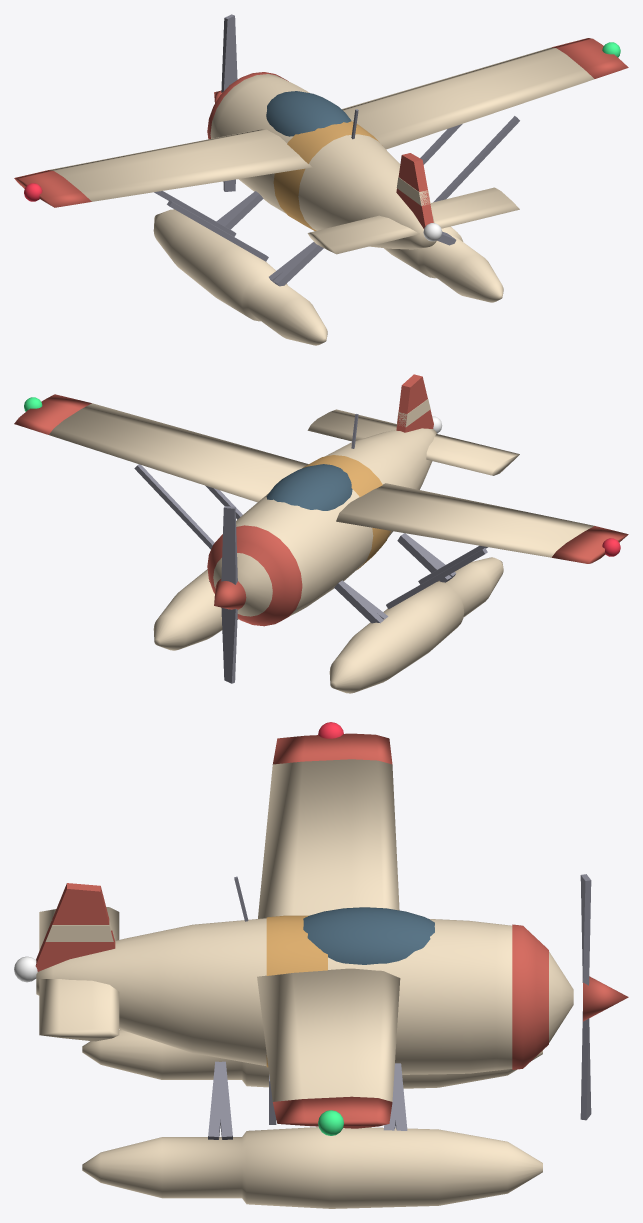
The model's file is seaplane.glb.
The picture shows the model from 3 angles, top to bottom: view 1: azimuth 30°, elevation 25°; view 2: azimuth 150°, elevation 25°; view 3: azimuth 270°, elevation 25°; orthographic projection. The views are drawn at different scales.
Visible parts, largest first — view 1: Fuselage, Wing Starboard, Wing Port, Float Port, Tailplane, Float Starboard, Canopy, Livery Band, Wingtip Starboard, Wingtip Port, Fin, Propeller (+5 smaller); view 2: Fuselage, Wing Starboard, Wing Port, Float Port, Cowl Band, Tailplane, Float Starboard, Canopy, Propeller, Livery Band, Wingtip Starboard, Wingtip Port (+6 smaller); view 3: Fuselage, Float Starboard, Wing Port, Wing Starboard, Float Port, Canopy, Tailplane, Cowl Band, Fin, Wingtip Port, Wingtip Starboard, Livery Band (+6 smaller).
Boxes of the visible parts, x1,y1,x2,y2 form: Fuselage: (210, 74, 436, 249); Wing Starboard: (342, 47, 594, 149); Wing Port: (49, 129, 312, 201); Float Port: (153, 209, 327, 345); Tailplane: (307, 187, 519, 254); Float Starboard: (384, 226, 503, 302); Canopy: (266, 91, 351, 136); Livery Band: (273, 121, 382, 230); Wingtip Starboard: (552, 38, 628, 78); Wingtip Port: (14, 170, 91, 207); Fin: (396, 153, 433, 228); Propeller: (221, 14, 237, 191); Fuselage: (213, 428, 436, 616); Wing Starboard: (49, 403, 308, 502); Wing Port: (336, 483, 594, 557); Float Port: (329, 557, 503, 693); Cowl Band: (207, 525, 302, 626); Tailplane: (307, 409, 519, 475); Float Starboard: (153, 569, 238, 650); Canopy: (266, 464, 352, 510); Propeller: (221, 506, 237, 683); Livery Band: (302, 455, 390, 570); Wingtip Starboard: (14, 394, 91, 434); Wingtip Port: (551, 526, 628, 563); Fuselage: (36, 918, 573, 1074); Float Starboard: (82, 1127, 542, 1208); Wing Port: (258, 759, 399, 918); Wing Starboard: (257, 968, 400, 1101); Float Port: (82, 1029, 542, 1088); Canopy: (303, 907, 434, 964); Tailplane: (39, 907, 119, 1041); Cowl Band: (512, 924, 548, 1069); Fin: (35, 883, 115, 971); Wingtip Port: (272, 733, 392, 764); Wingtip Starboard: (273, 1096, 392, 1128); Livery Band: (266, 915, 327, 1067).
Size of the model in its own units: 6.15 by 1.93 by 4.01.
